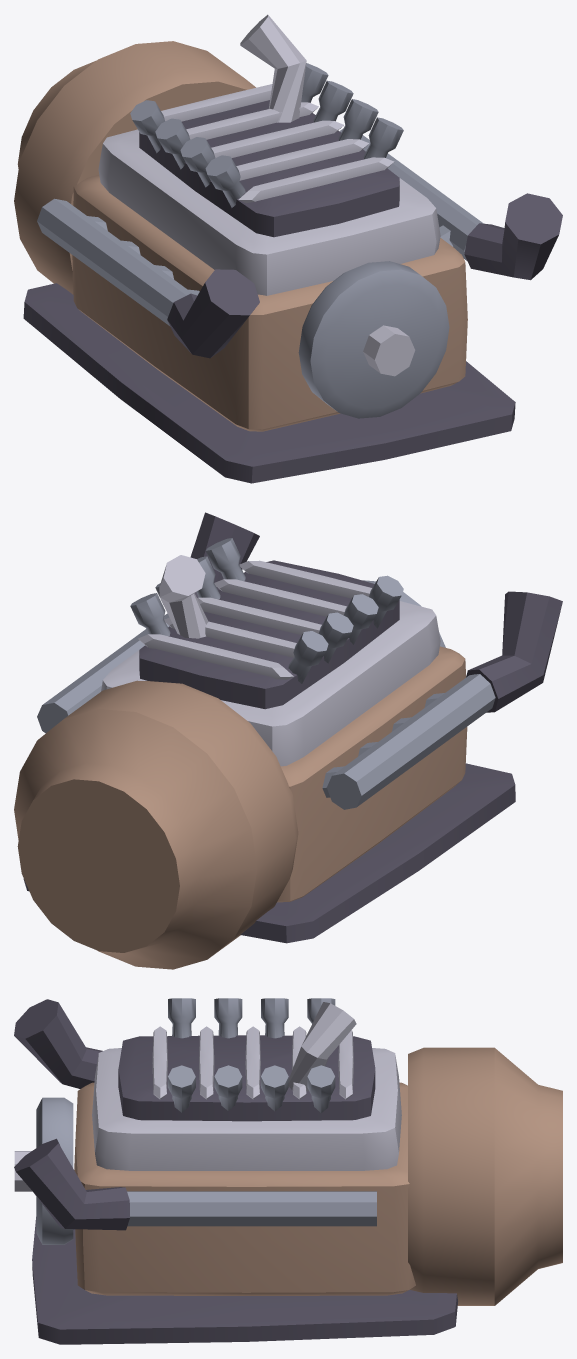
File: engine.glb
3 views of the same model, one above another, from view 1: azimuth 30°, elevation 25°; view 2: azimuth 150°, elevation 25°; view 3: azimuth 270°, elevation 25° (orthographic). The views are drawn at different scales.
Parts seen in each view (by area): view 1: block, plate, head, bell, pulley, cover, manifoldL, exhaustPipeR, exhaustPipeL, filler, rib4, manifoldR (+13 smaller); view 2: bell, block, plate, head, cover, manifoldL, exhaustPipeL, filler, manifoldR, rib0, rib4, rib3 (+10 smaller); view 3: bell, block, plate, head, cover, manifoldR, exhaustPipeR, exhaustPipeL, pulley, filler, rib4, rib2 (+10 smaller).
Boxes of the visible parts, bbox=[...] form: block: bbox=[72, 175, 467, 431]; plate: bbox=[23, 283, 515, 483]; head: bbox=[98, 129, 440, 295]; bell: bbox=[14, 41, 255, 294]; pulley: bbox=[298, 261, 449, 418]; cover: bbox=[139, 100, 399, 237]; manifoldL: bbox=[37, 198, 193, 326]; exhaustPipeR: bbox=[464, 193, 562, 280]; exhaustPipeL: bbox=[167, 269, 259, 358]; filler: bbox=[240, 14, 306, 122]; rib4: bbox=[238, 157, 394, 203]; manifoldR: bbox=[339, 128, 483, 260]; bell: bbox=[14, 680, 298, 969]; block: bbox=[277, 646, 467, 902]; plate: bbox=[23, 763, 515, 943]; head: bbox=[101, 601, 440, 766]; cover: bbox=[139, 560, 399, 709]; manifoldL: bbox=[327, 674, 495, 809]; exhaustPipeL: bbox=[466, 591, 562, 712]; filler: bbox=[159, 555, 208, 638]; manifoldR: bbox=[37, 613, 169, 733]; rib0: bbox=[138, 634, 293, 679]; rib4: bbox=[239, 560, 371, 598]; rib3: bbox=[214, 579, 346, 616]; bell: bbox=[408, 1047, 562, 1305]; block: bbox=[74, 1082, 415, 1295]; plate: bbox=[32, 1217, 457, 1344]; head: bbox=[92, 1048, 401, 1170]; cover: bbox=[118, 1035, 375, 1121]; manifoldR: bbox=[127, 1191, 376, 1226]; exhaustPipeR: bbox=[14, 1138, 129, 1230]; exhaustPipeL: bbox=[14, 999, 102, 1088]; pulley: bbox=[36, 1097, 73, 1244]; filler: bbox=[288, 1002, 356, 1091]; rib4: bbox=[152, 1026, 167, 1099]; rib2: bbox=[245, 1026, 260, 1099].
Bounding box in the file's own units: 1.25 × 1.11 × 1.77.
